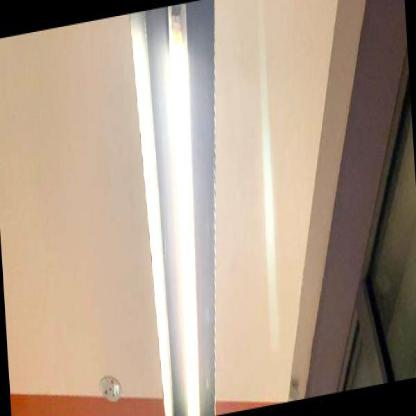light_on: (151, 0, 224, 415)
